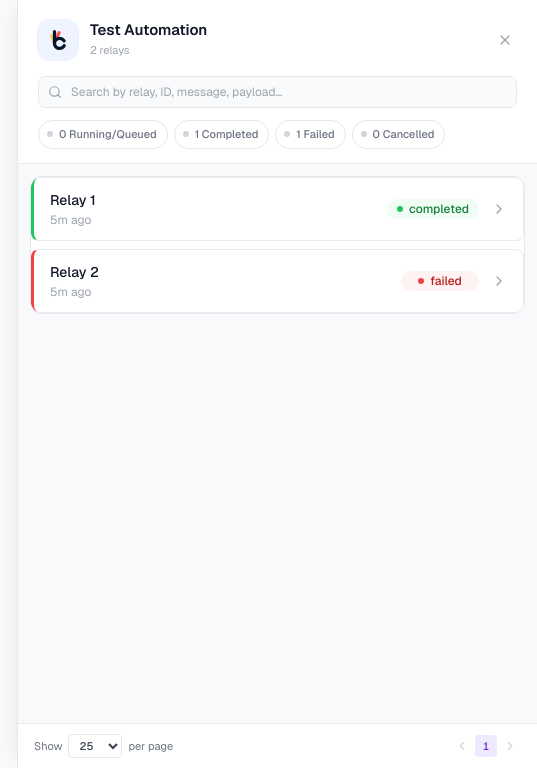
Test case: ActionLogsSidebar › filters actions when a filter chip is clicked
This screenshot has width=537, height=768.
Click the button "1 Failed". click: (311, 134)
box: [275,120,346,148]
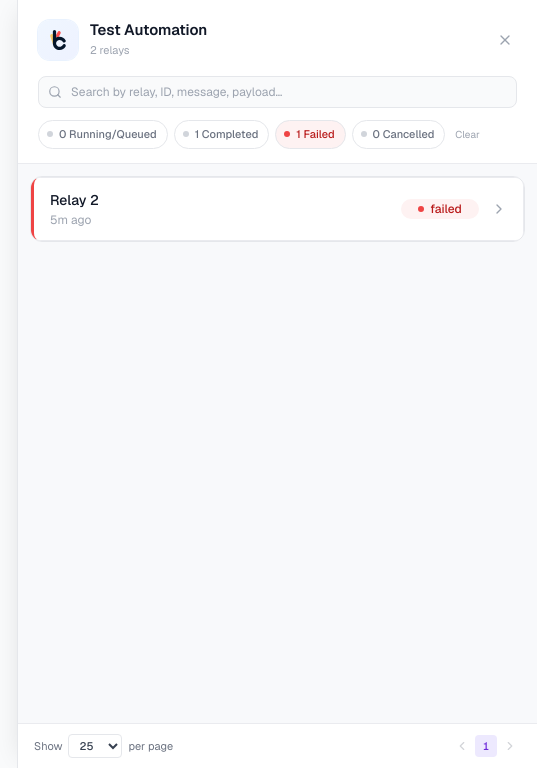
Expected: the text "Relay 2" is shown, [50,190,99,208]
Now the text "Relay 1" is gone
